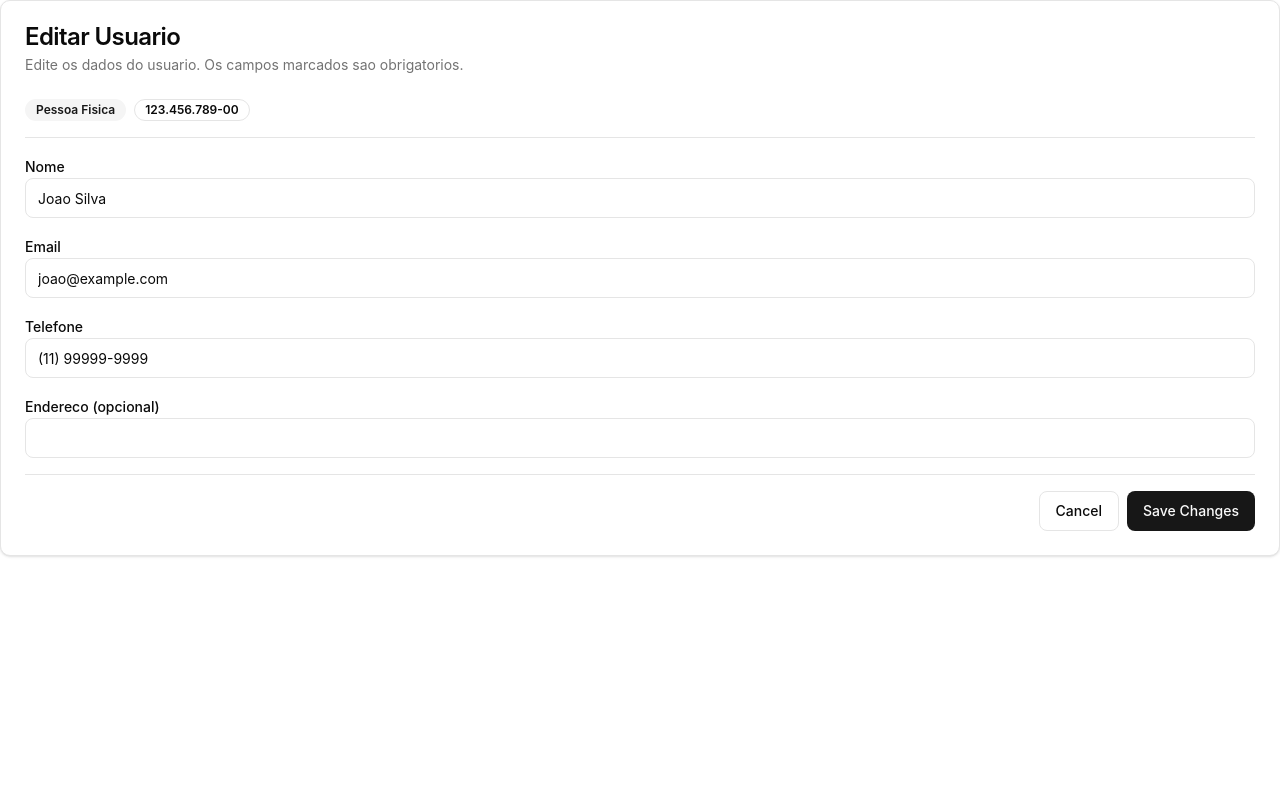
it: EditUserForm › shows validation errors for invalid phone format
This screenshot has width=1280, height=800.
Replace the text in the field labelled "Telefone" with "123" at coordinates (640, 358), box top-left (25, 338), bottom-right (1255, 378)
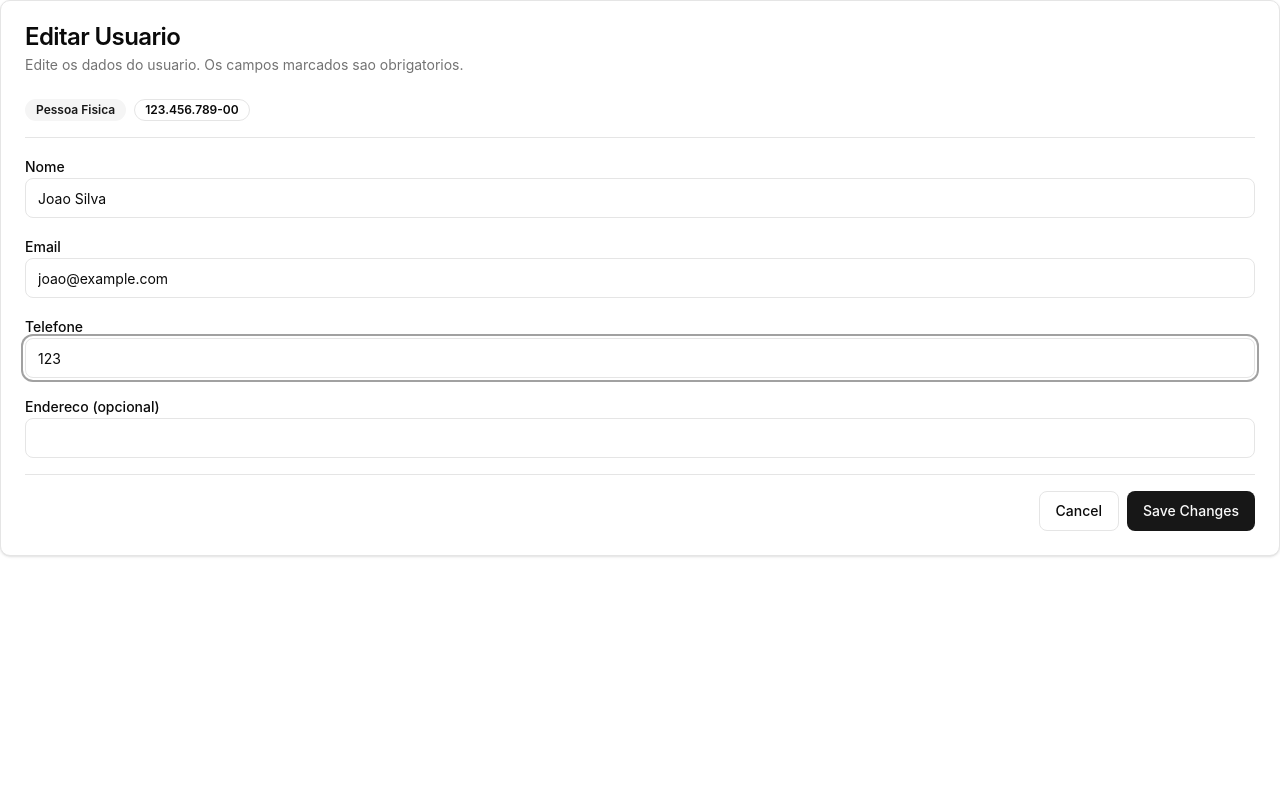
Click the button "Save Changes" at coordinates (1191, 511), box top-left (1127, 491), bottom-right (1255, 531)
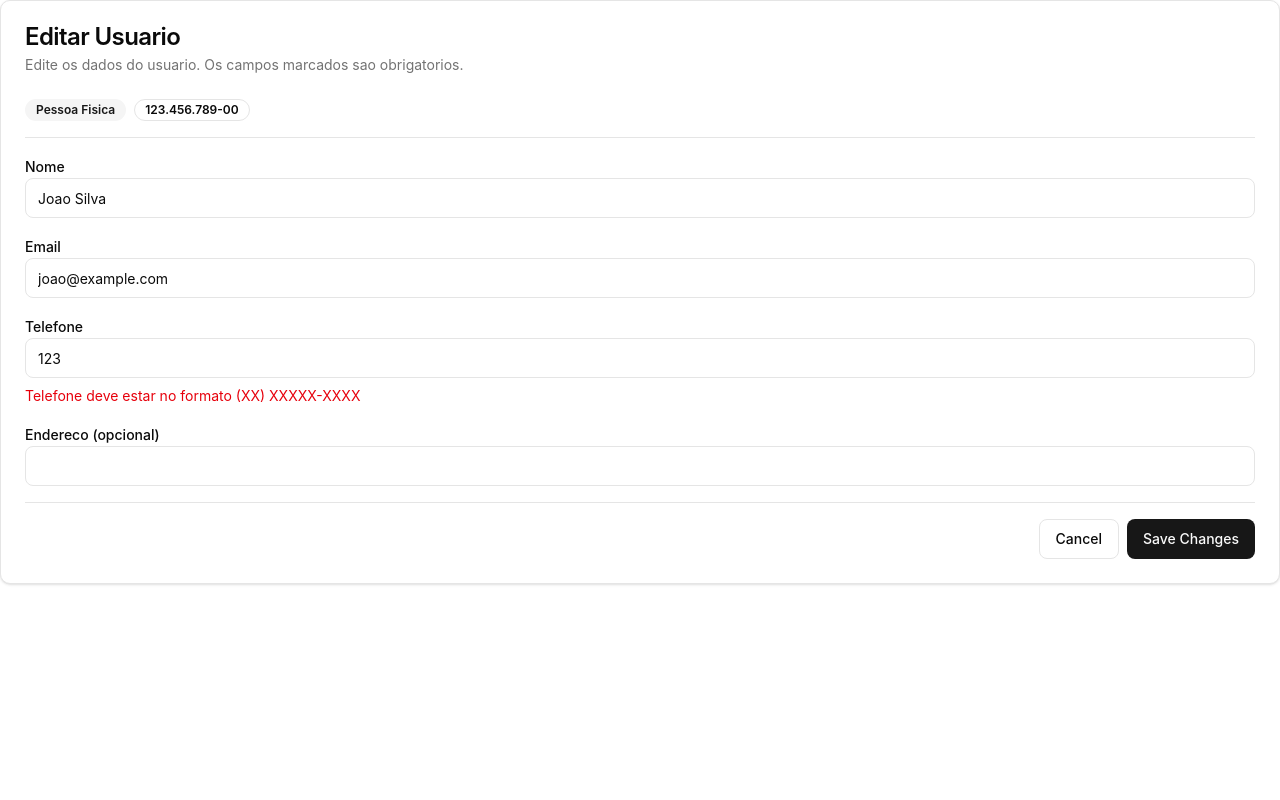
Result: the text "Telefone deve estar no formato (XX) XXXXX-XXXX" is shown at top-left (25, 387), bottom-right (360, 404)
